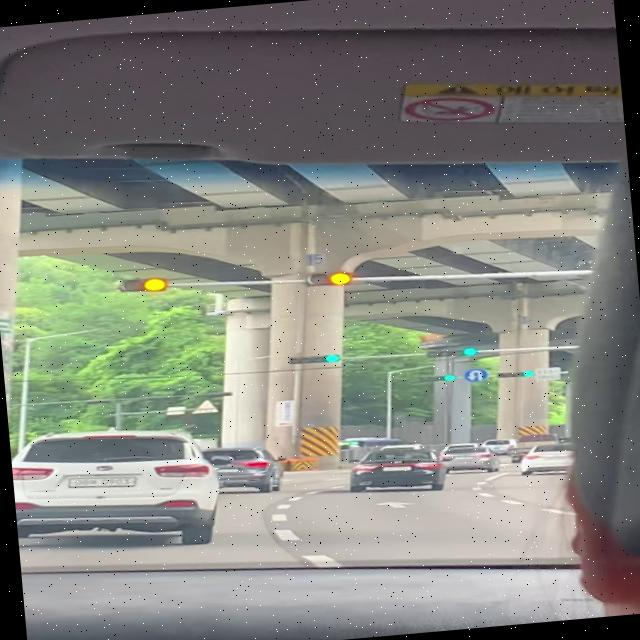yellow_light: (306, 271, 351, 288), (120, 278, 166, 294)
